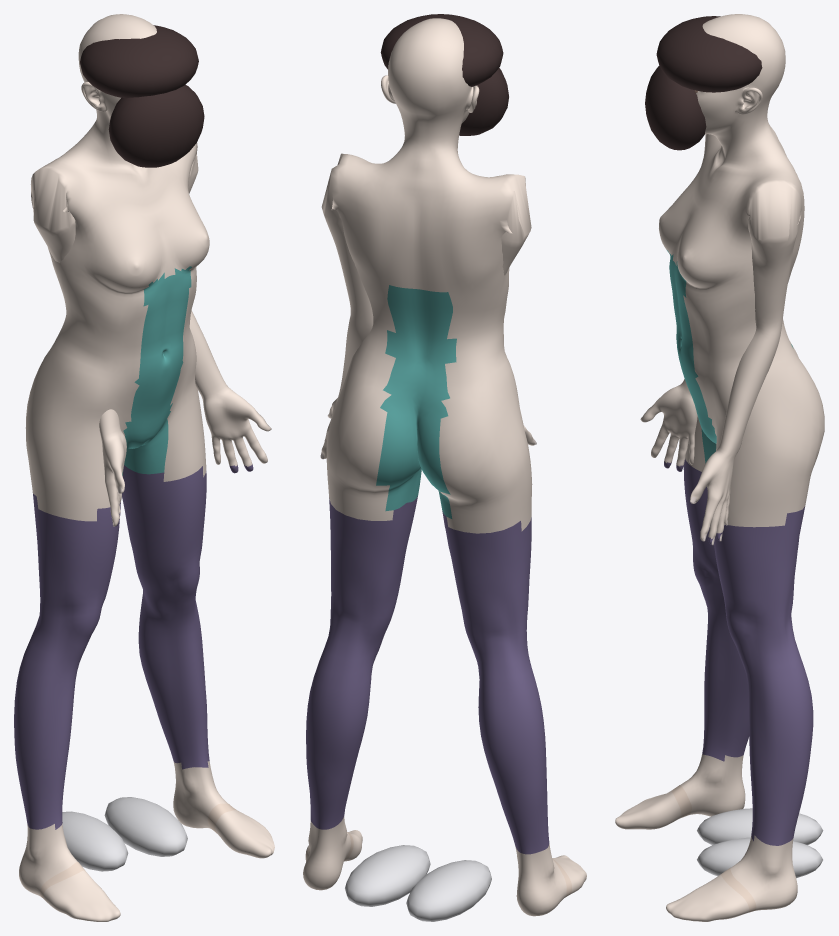
File: hm_ped_suki_v15.glb
3 views of the same model, side by side, from view 1: azimuth 30°, elevation 25°; view 2: azimuth 150°, elevation 25°; view 3: azimuth 270°, elevation 25° (orthographic). The views are drawn at different scales.
Parts seen in each view (by area): view 1: hm_ped_suki; view 2: hm_ped_suki; view 3: hm_ped_suki.
Boxes of the visible parts, x1,y1,x2,y2 form: hm_ped_suki: (14,14,274,921); hm_ped_suki: (303,14,586,921); hm_ped_suki: (615,14,824,921).
Bounding box in the file's own units: 0.479 × 1.62 × 0.3644.
